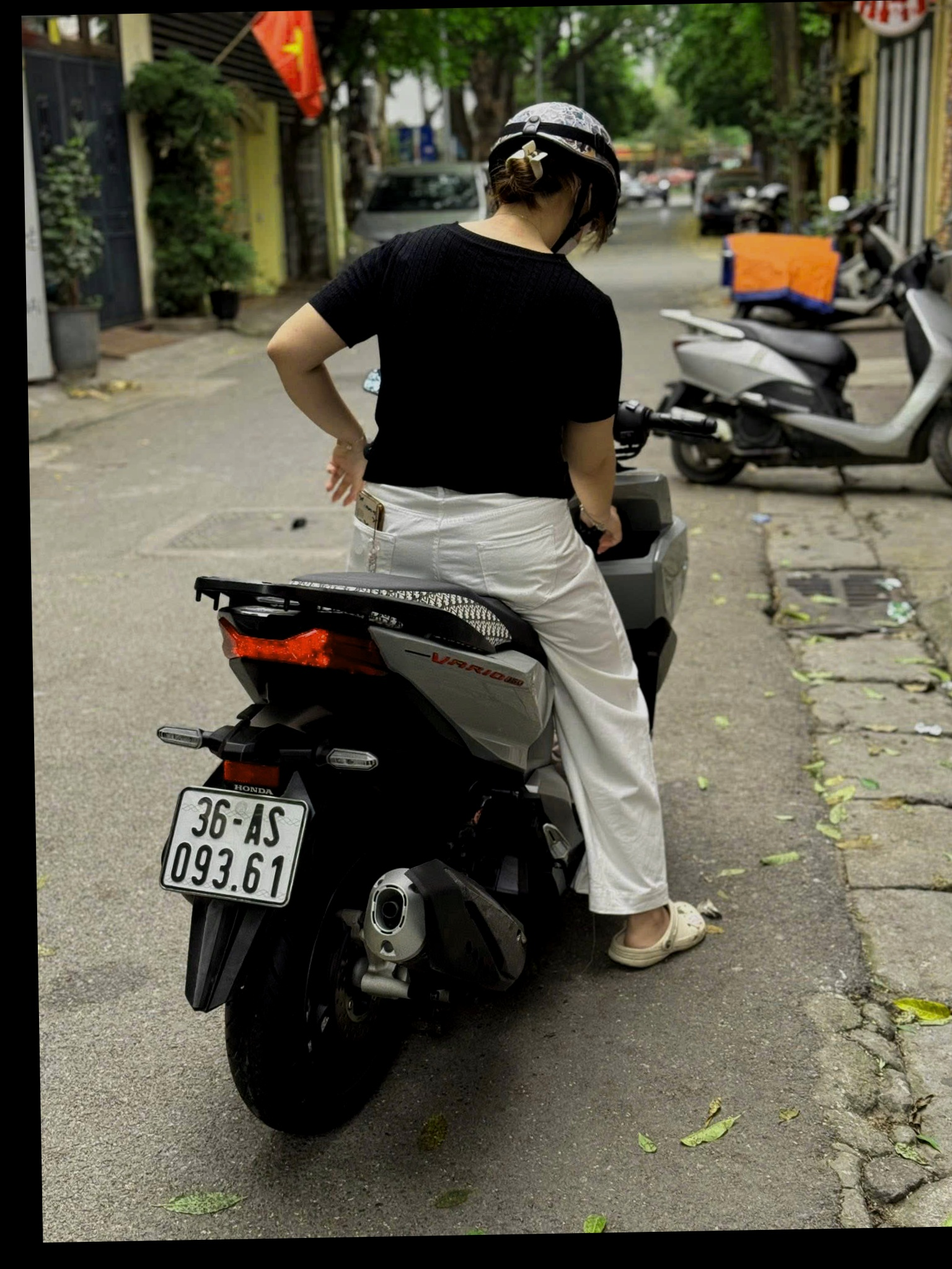Bien-so: (84, 793, 251, 932)
